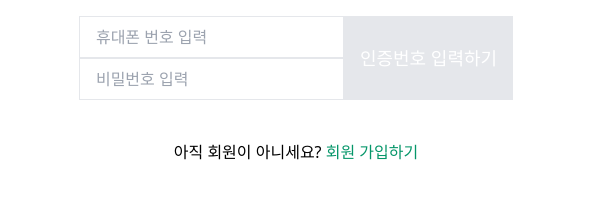
Test case: <LoginPage /> › dispays phone validation errors
Step 1. Type "asdf" into the field with placeholder "휴대폰 번호 입력" → (211, 37), box [79,16,344,58]
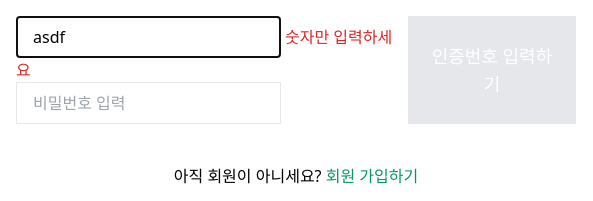
Now the message reads "숫자만 입력하세요", box [16,26,392,81]
Step 2. Clear the field with placeholder "휴대폰 번호 입력" → (148, 37), box [16,16,281,58]
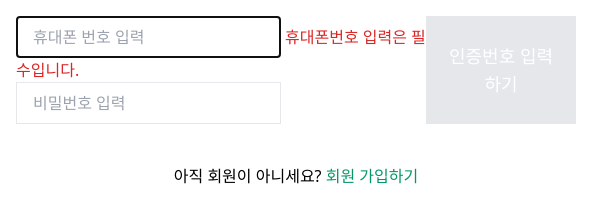
Now the message reads "휴대폰번호 입력은 필수입니다.", box [16,26,426,81]
